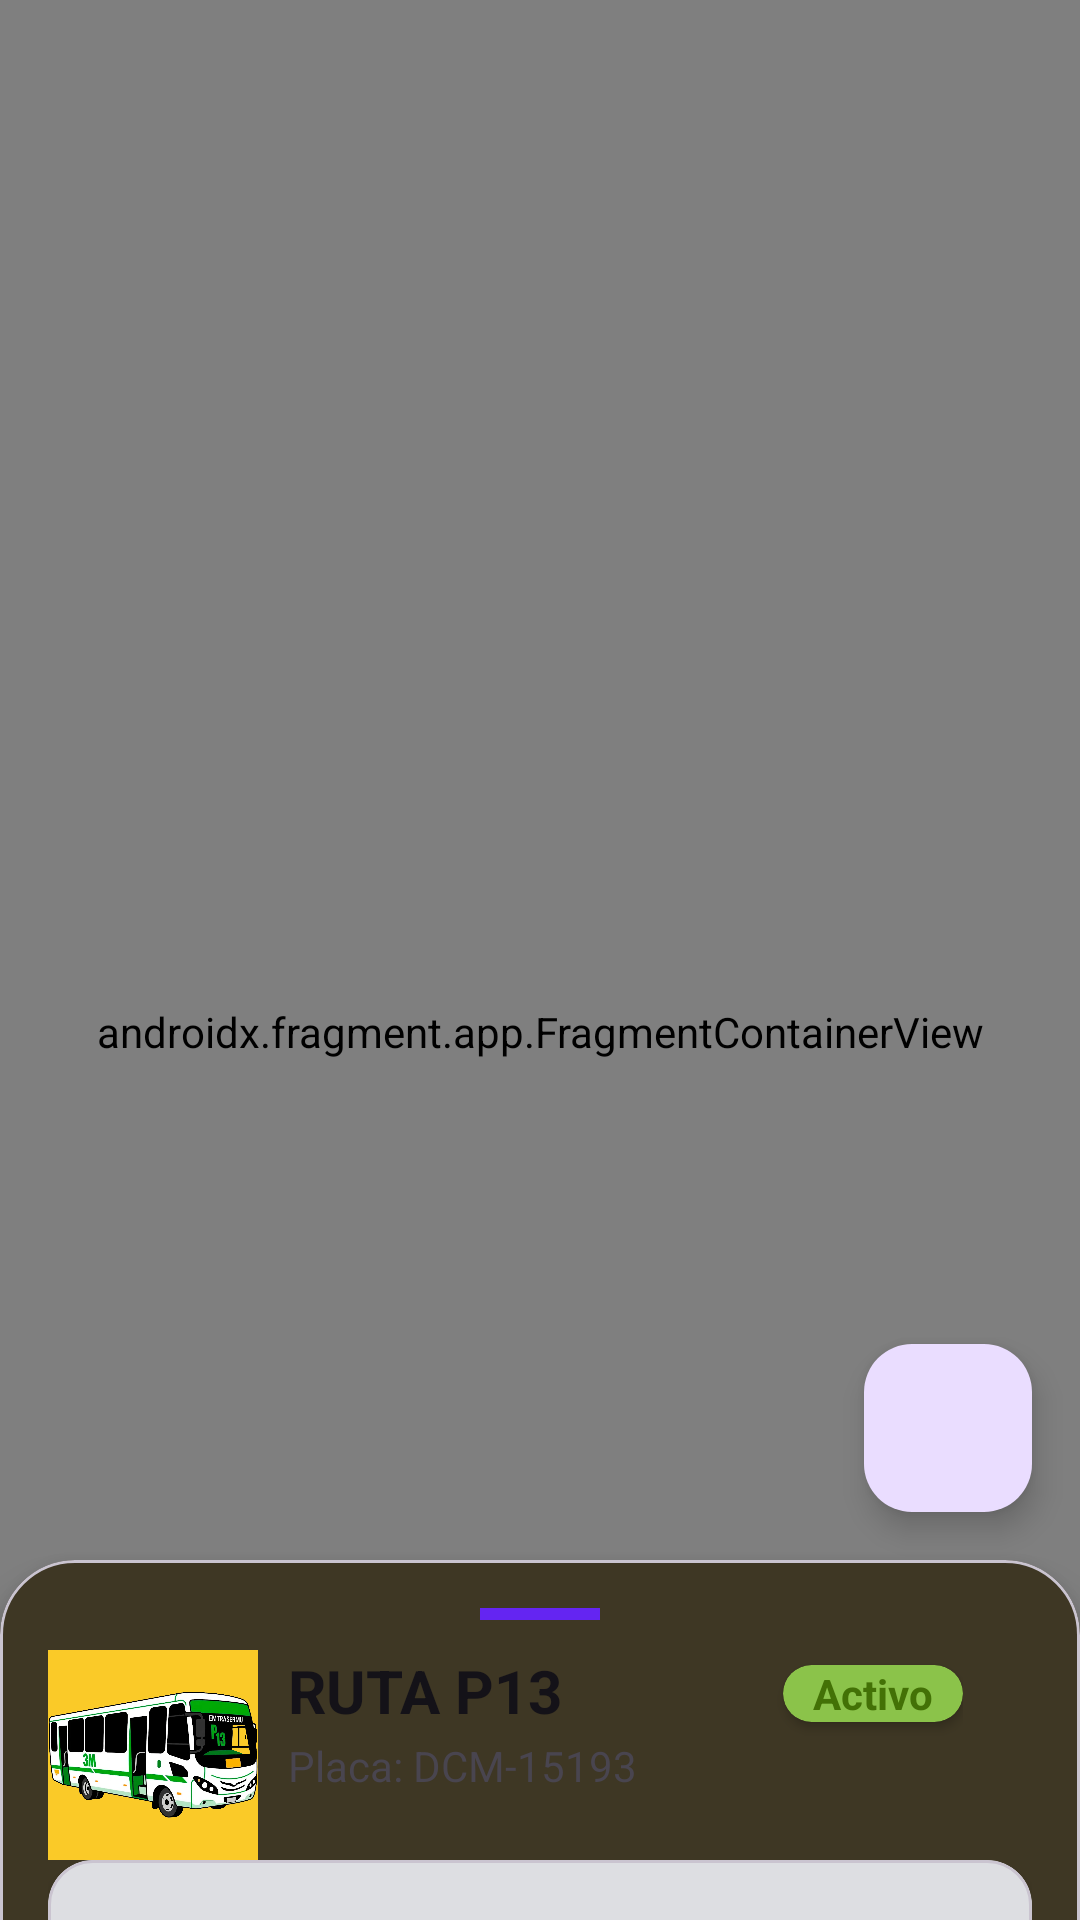

Icon click points for this 1080x1920 phone screenshot, format (x=x, y=y):
bus one: (x=153, y=1755)
